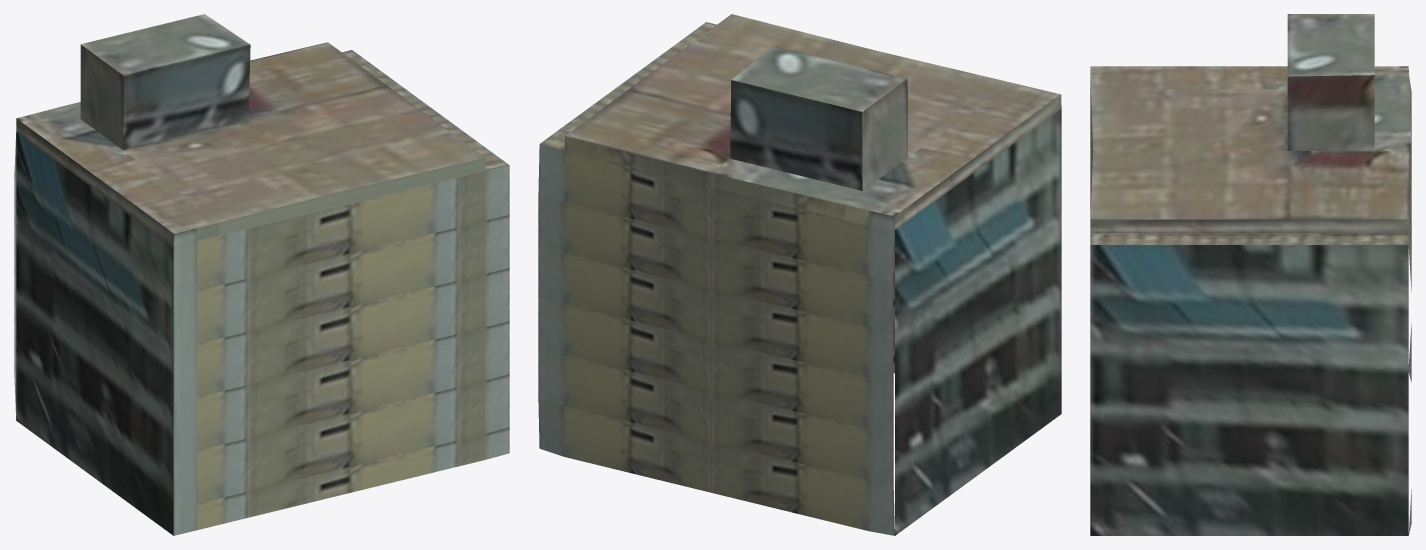
3 views of the same model, side by side, from view 1: azimuth 30°, elevation 25°; view 2: azimuth 150°, elevation 25°; view 3: azimuth 270°, elevation 25° (orthographic). The views are drawn at different scales.
Visible parts, largest first — view 1: orto-edificio22-completo.052; view 2: orto-edificio22-completo.052; view 3: orto-edificio22-completo.052.
Boxes of the visible parts, box(x1,y1,x2,y2) form: orto-edificio22-completo.052: box(14, 14, 509, 535); orto-edificio22-completo.052: box(538, 14, 1061, 535); orto-edificio22-completo.052: box(1090, 14, 1411, 535).
Size of the model in its own units: 2.54 by 2.72 by 2.08.
Materials: 3 (3 with a texture image).
